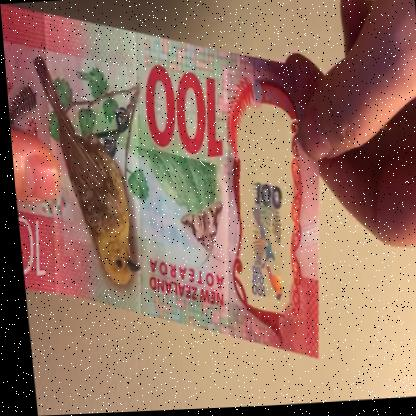100B: (233, 133, 291, 309)
